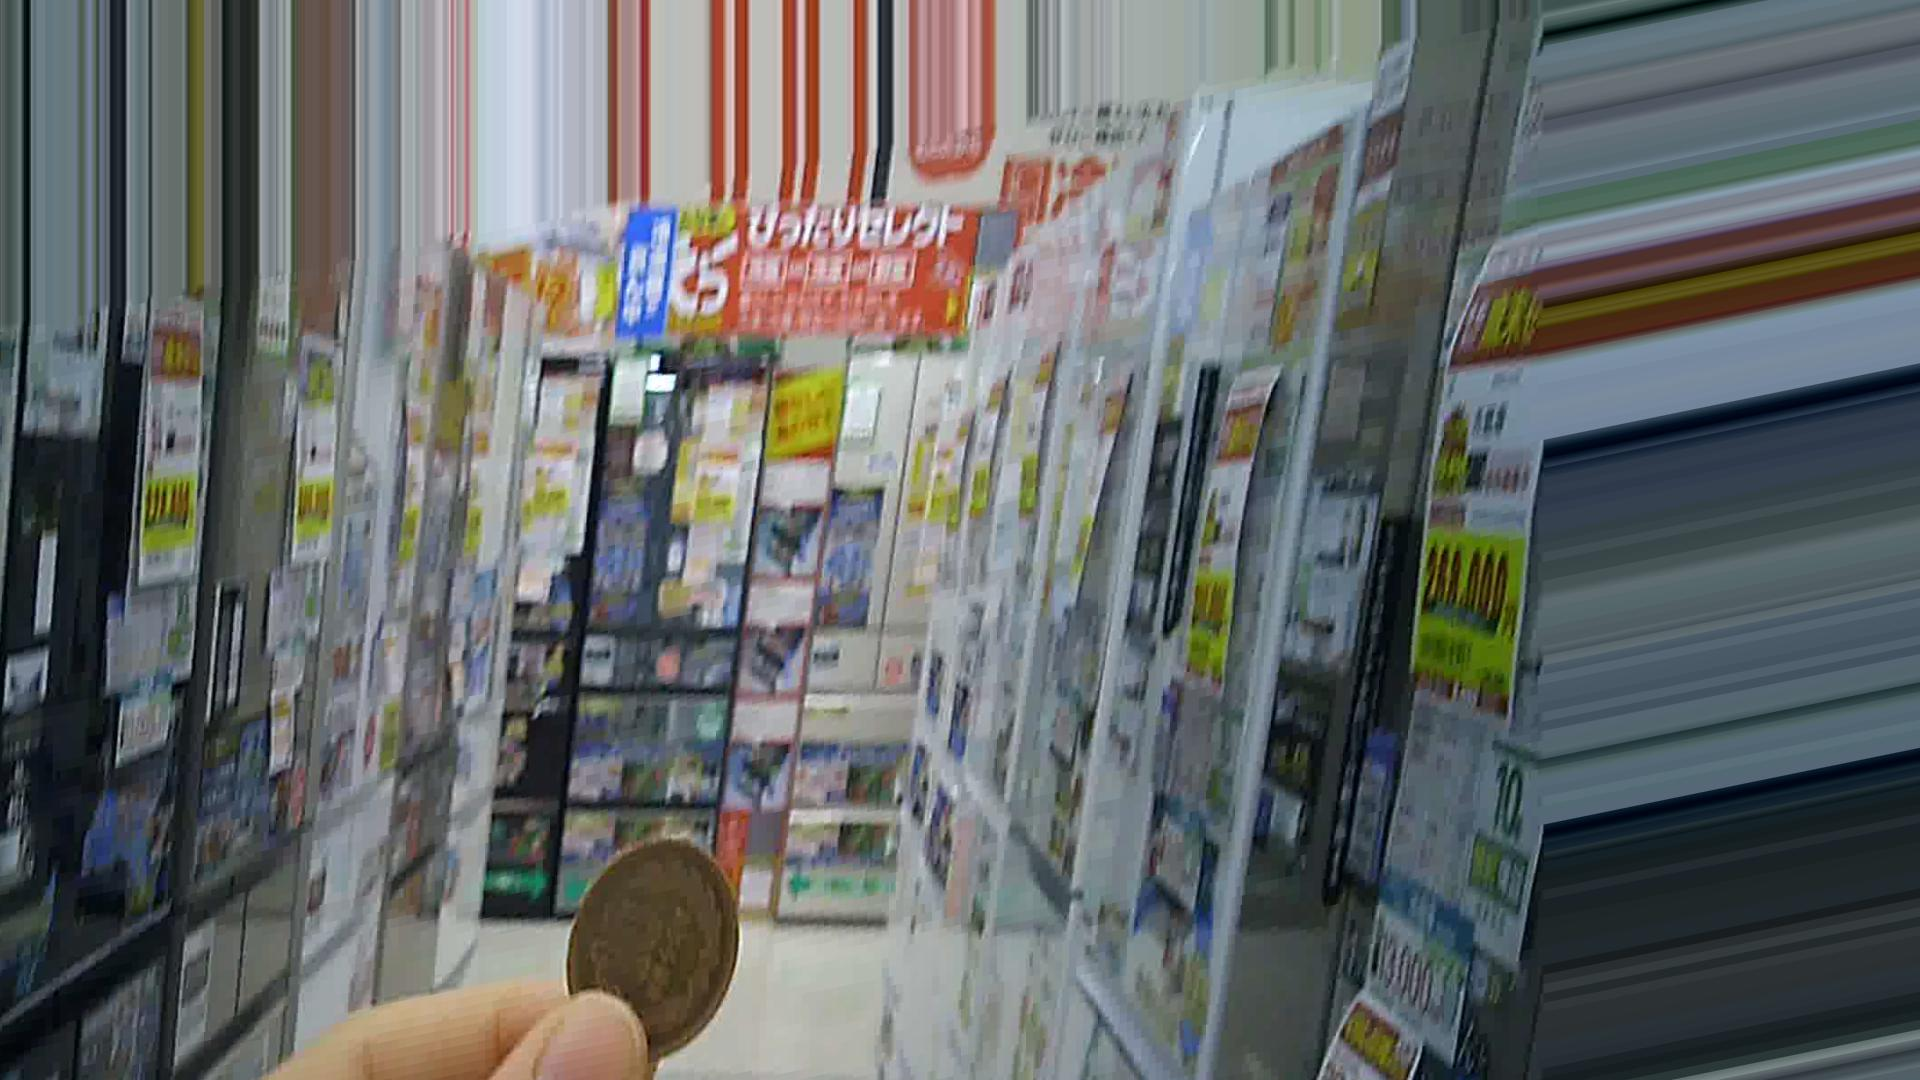10 Yen: (547, 841, 741, 1051)
